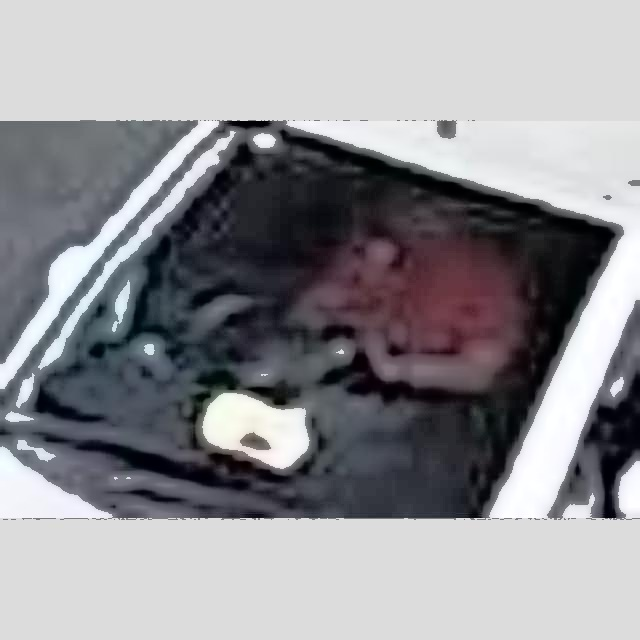tidak-pakai: (272, 202, 522, 401)
